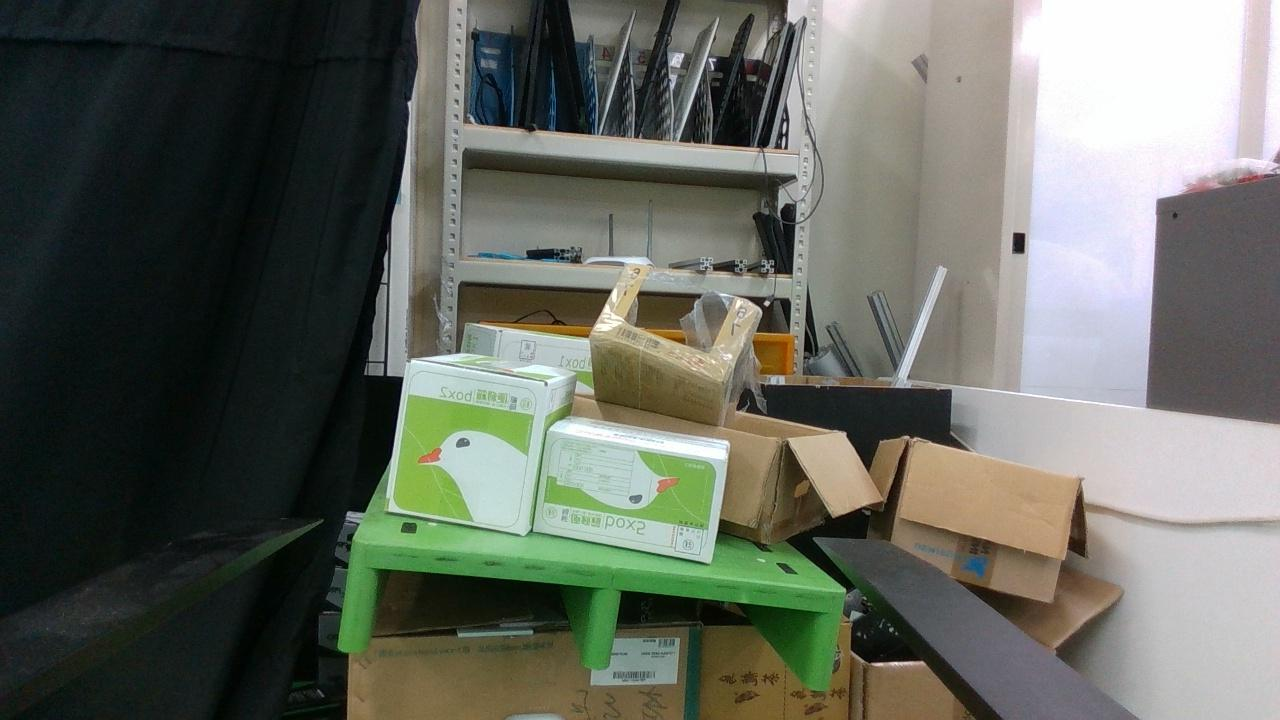Pallet: (336, 540, 843, 690)
